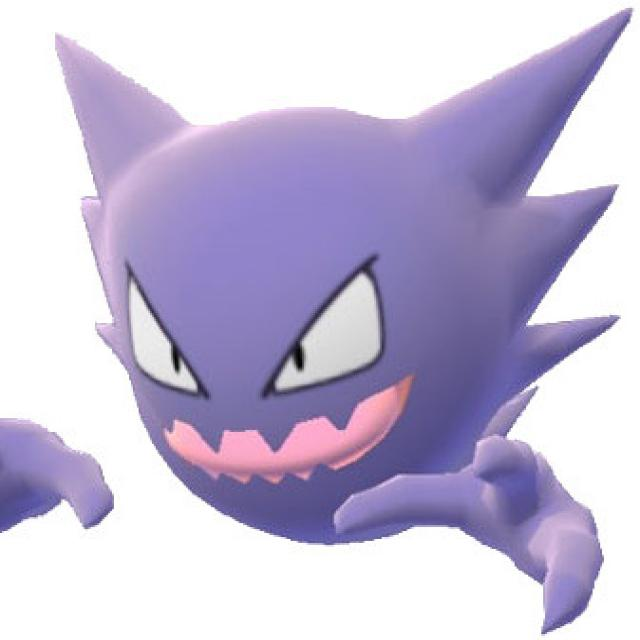Haunter: (94, 8, 640, 540)
